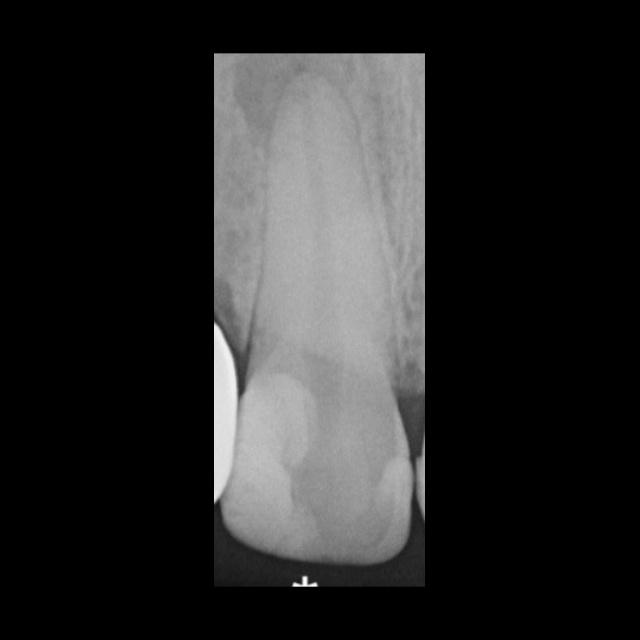tooth: (220, 72, 414, 567)
